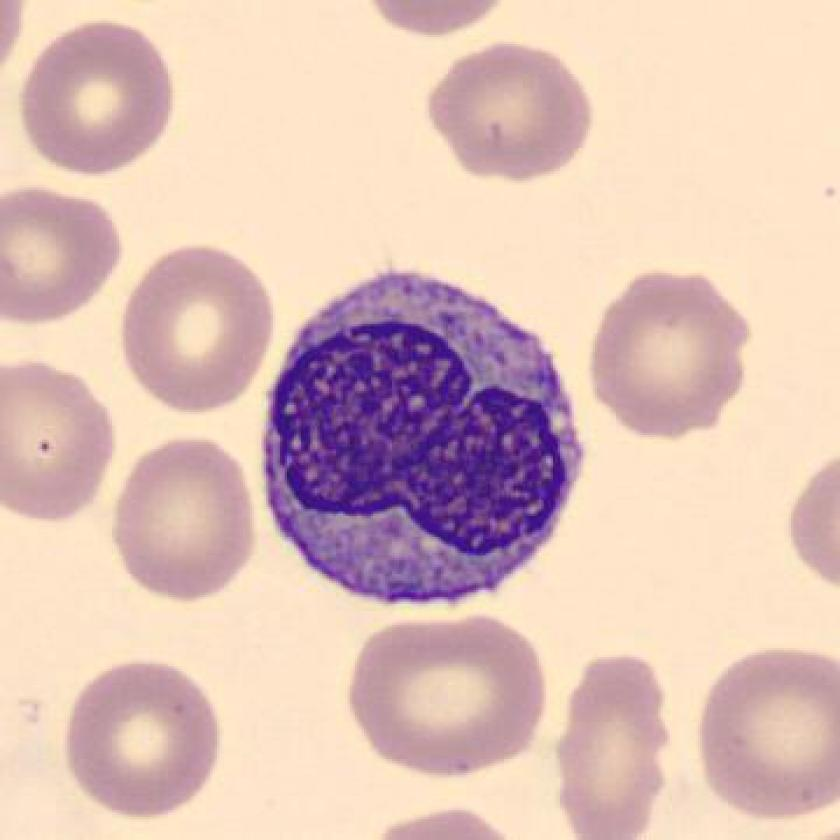monocyte: (246, 249, 603, 626)
